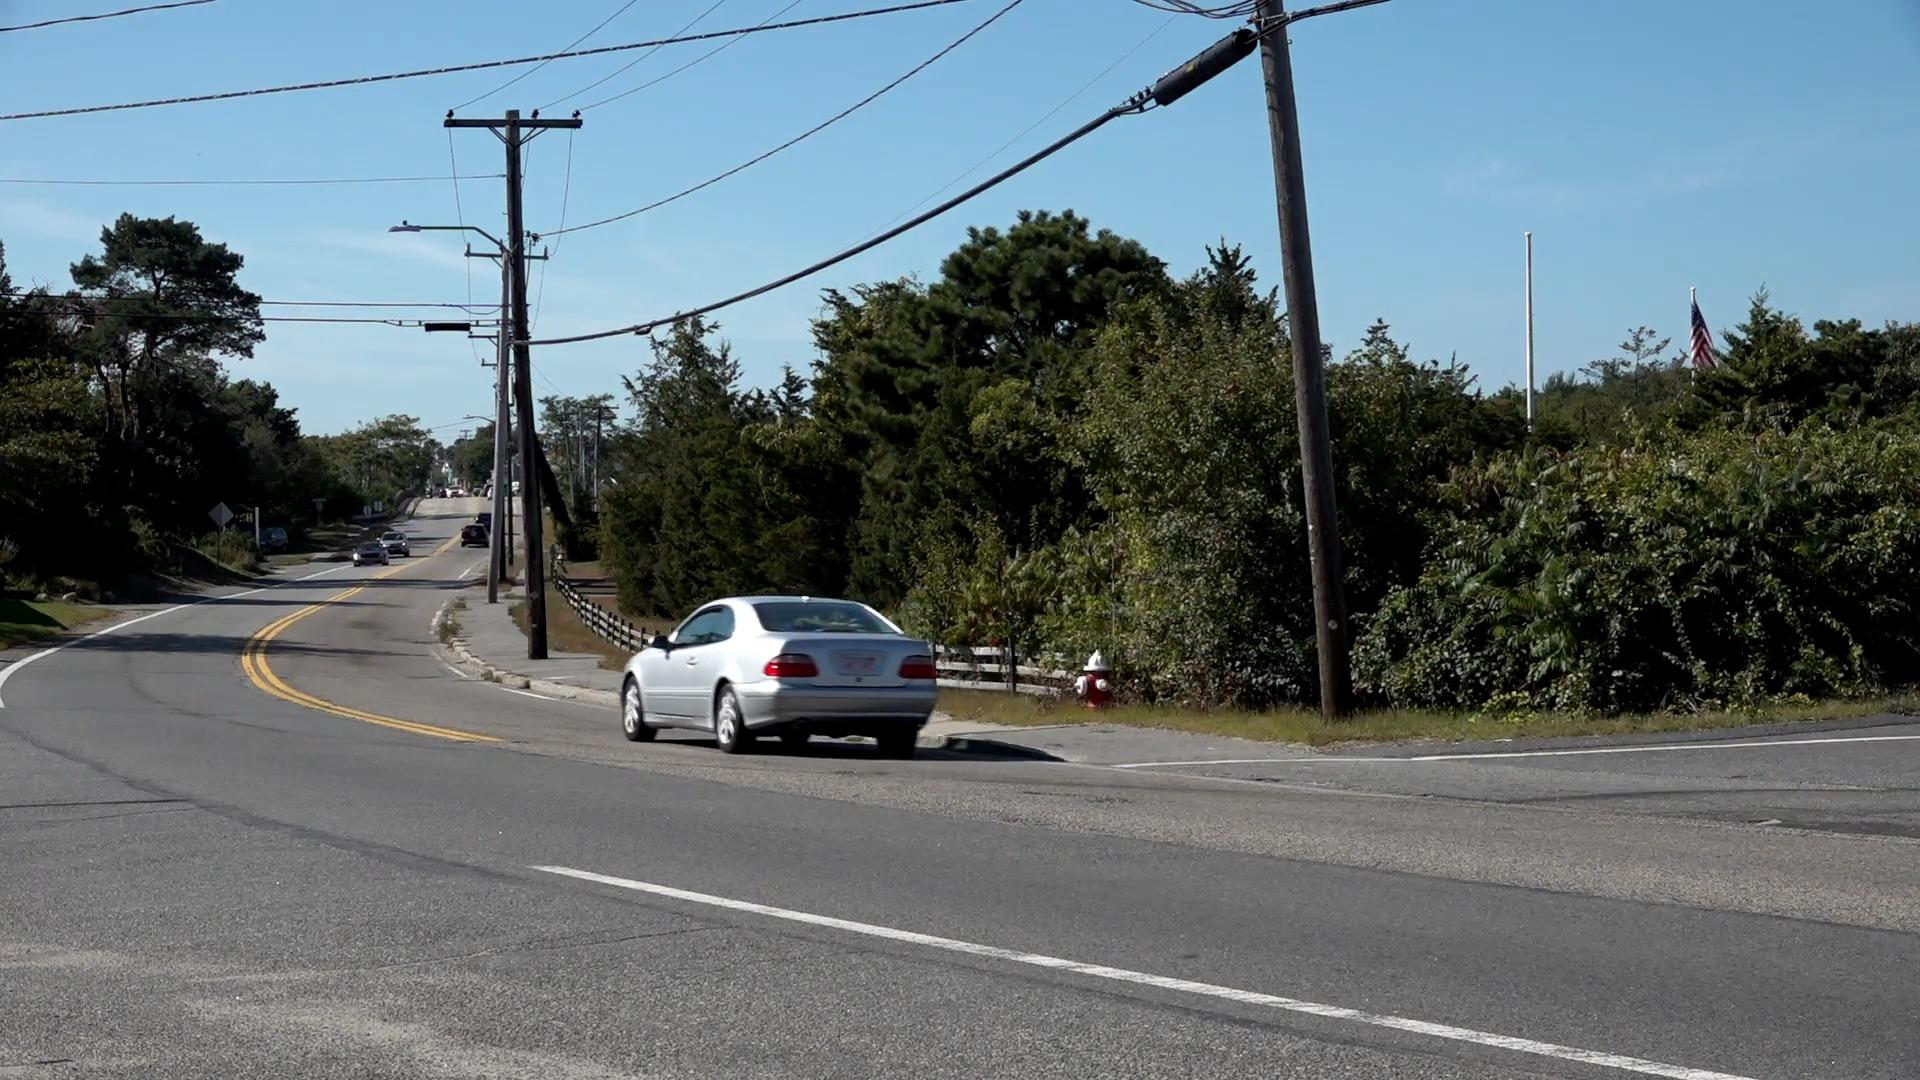sedans: (617, 587, 940, 757)
